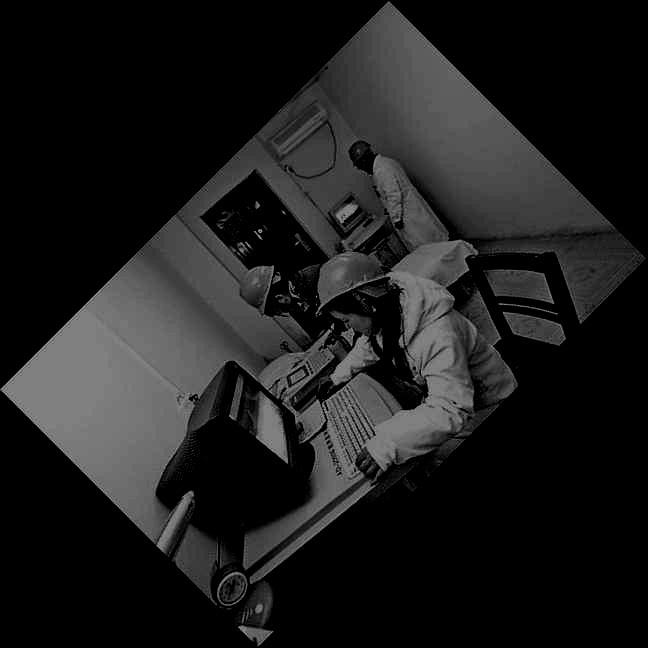helmet: (315, 251, 392, 336), (238, 265, 302, 317), (348, 140, 375, 174)
